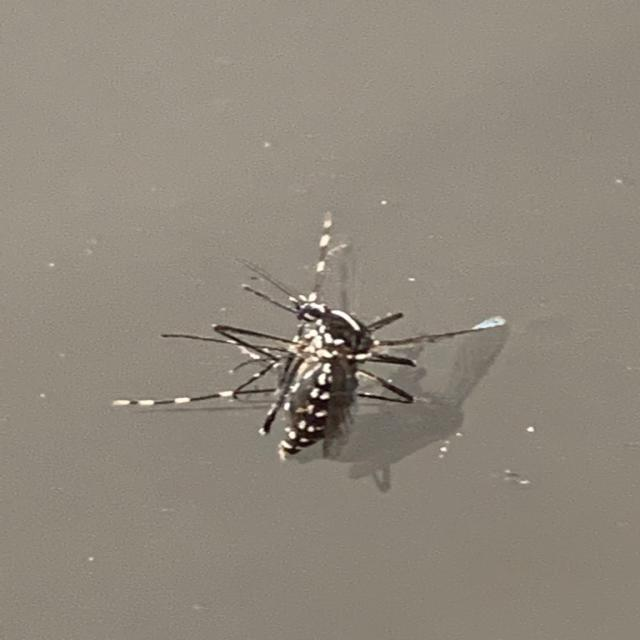albopictus: (113, 208, 514, 471)
